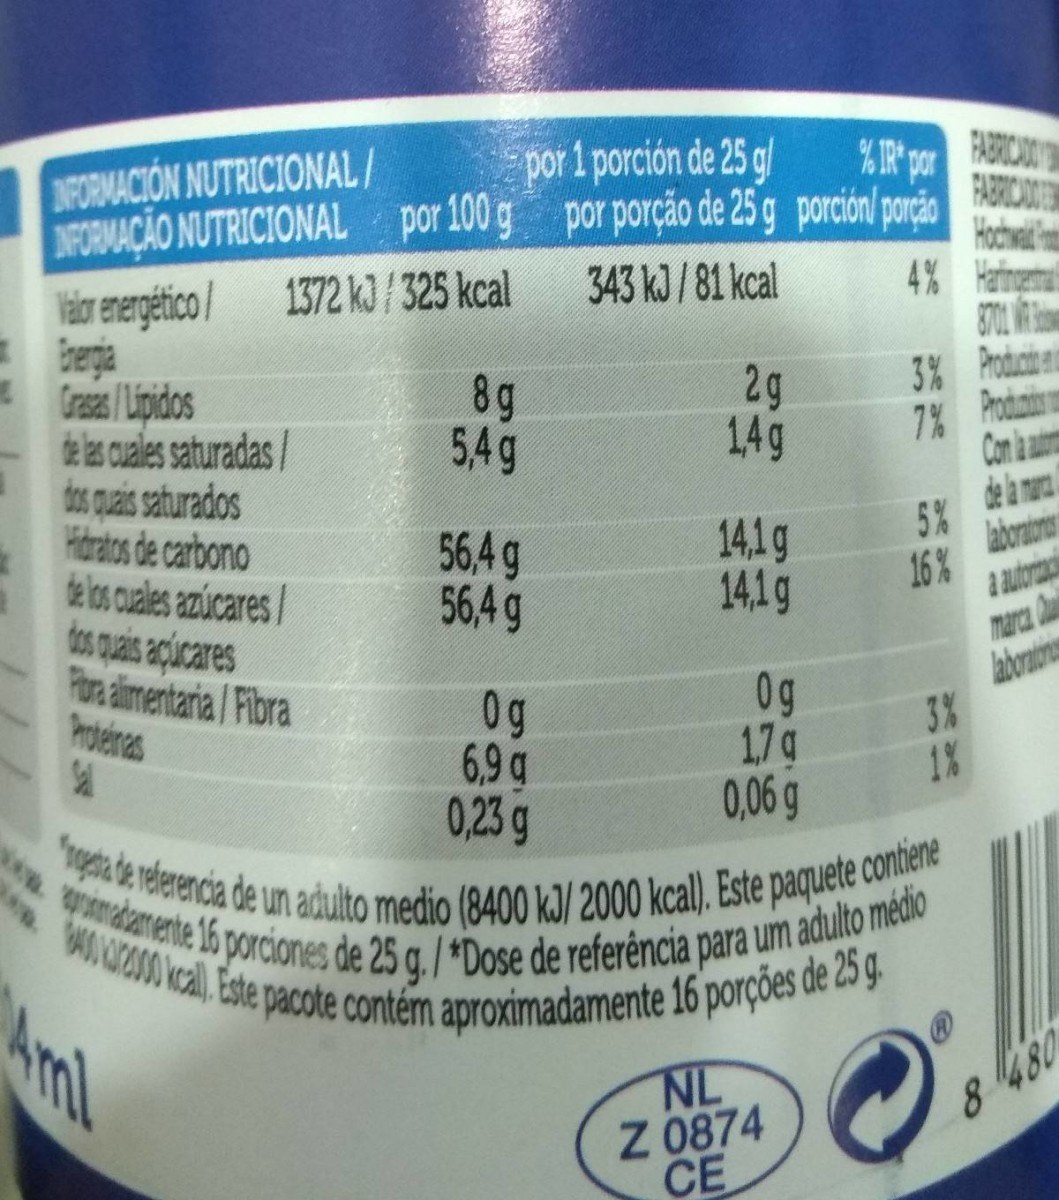column: (533, 131, 799, 849), (44, 270, 284, 847), (289, 267, 524, 847), (804, 128, 961, 851)
table: (37, 103, 966, 856)
